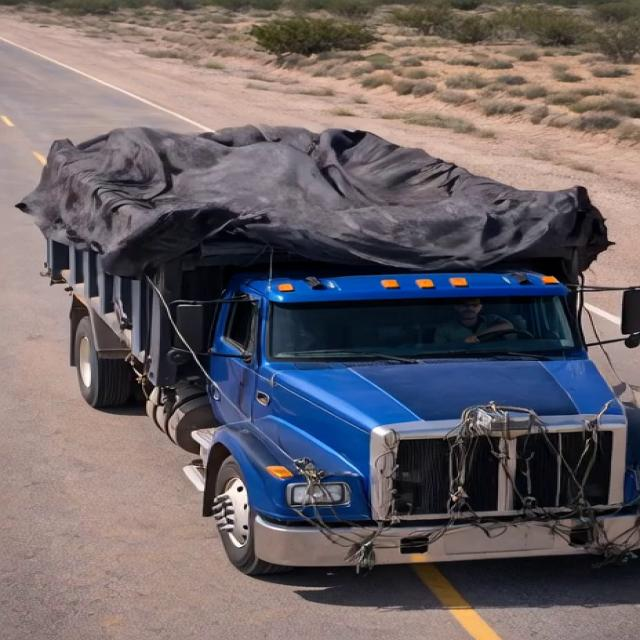trailer: (39, 122, 596, 238)
truck: (22, 81, 638, 568)
